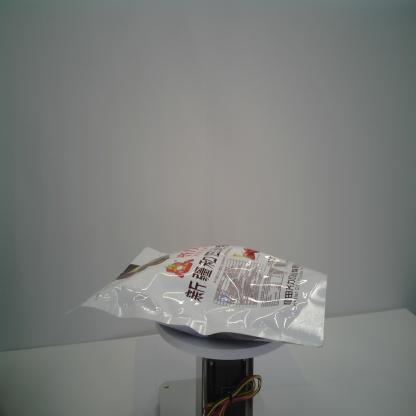Dried Food: (65, 244, 328, 348)
